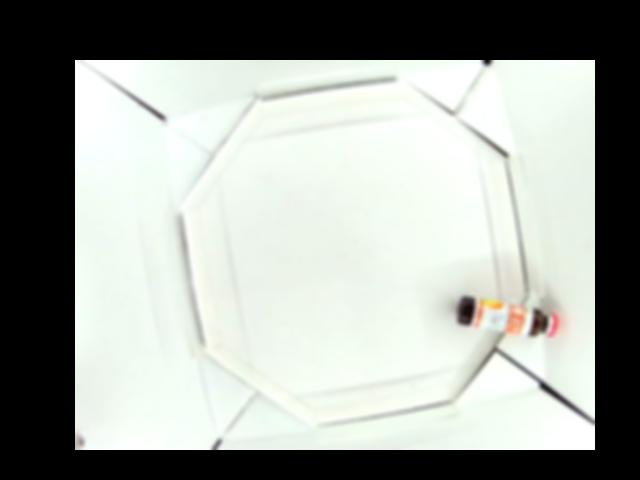Medicine: (457, 293, 559, 339)
